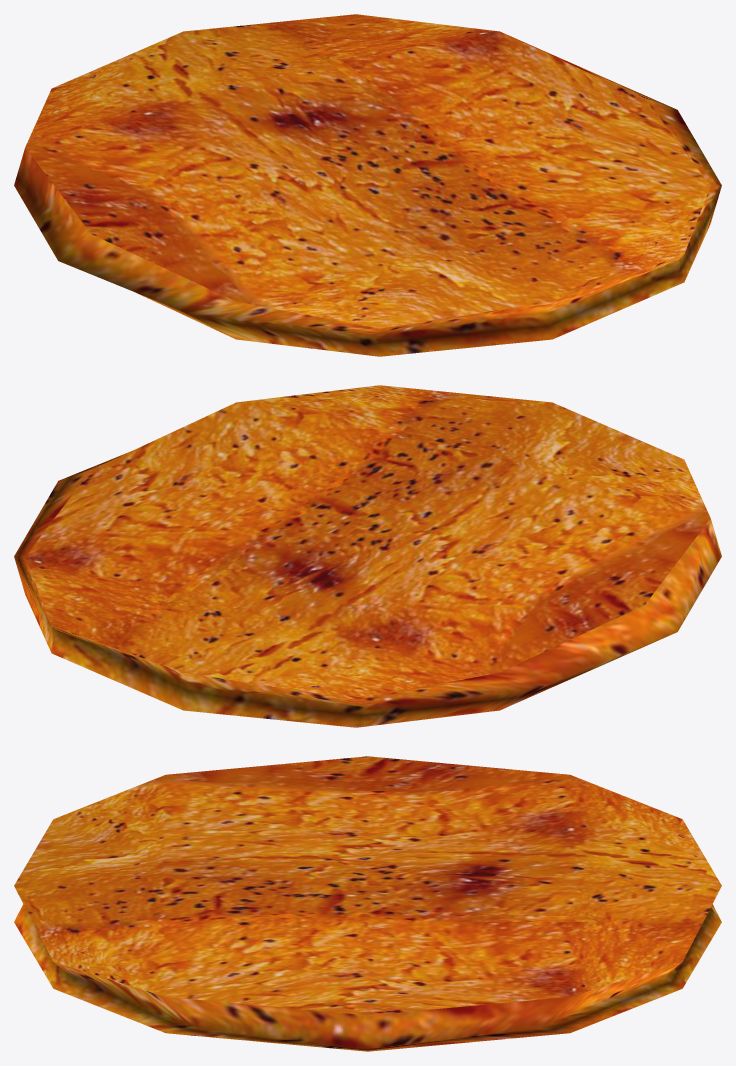
File: slicebutternutsquash.fbx
3 renders of one model, top to bottom at view 1: azimuth 30°, elevation 25°; view 2: azimuth 150°, elevation 25°; view 3: azimuth 270°, elevation 25°, orthographic. The views are drawn at different scales.
Parts seen in each view (by area): view 1: butternutslice; view 2: butternutslice; view 3: butternutslice.
Boxes of the visible parts, x1,y1,x2,y2 form: butternutslice: (14,14,721,356); butternutslice: (14,385,721,727); butternutslice: (14,756,721,1051).
Size of the model in its own units: 14.45 by 1.13 by 14.92.
